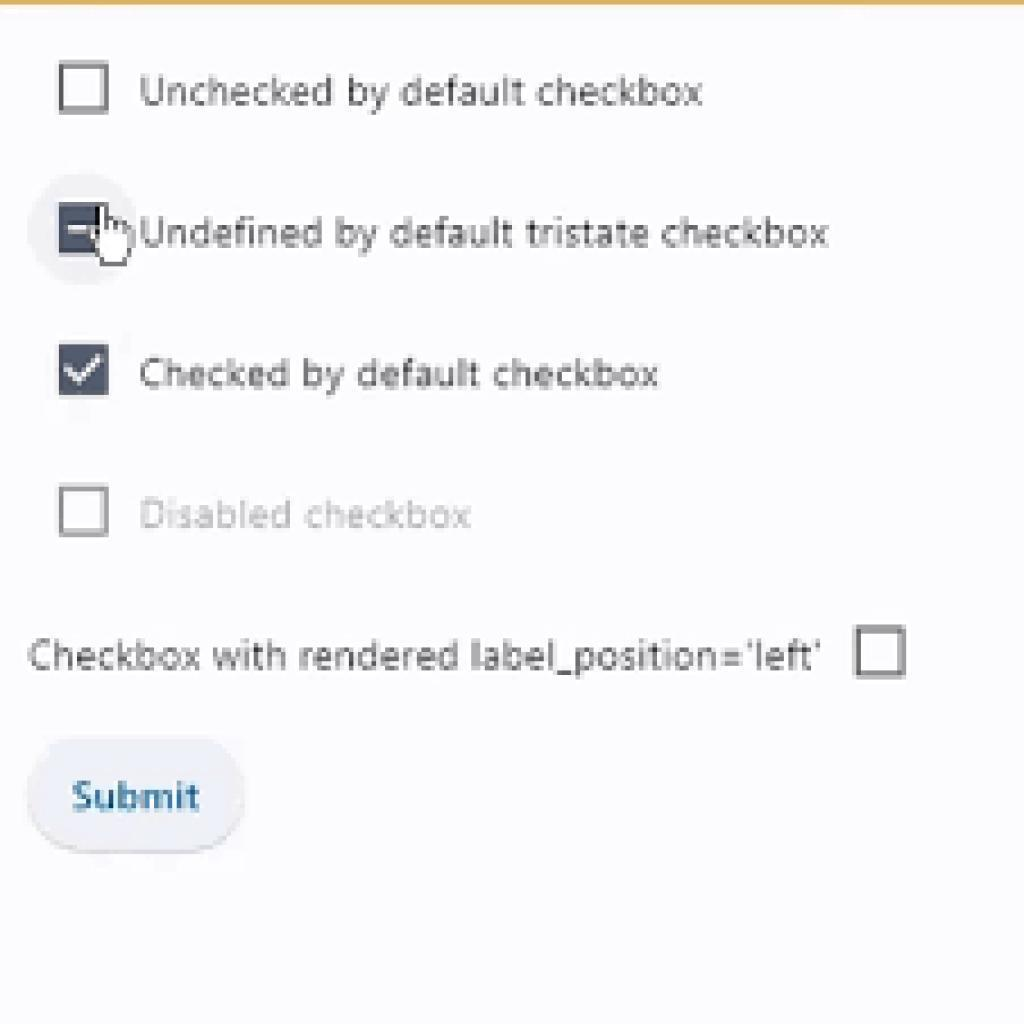button: (31, 731, 247, 856)
checkbox: (851, 622, 910, 682), (55, 481, 111, 542), (55, 340, 113, 398), (57, 60, 111, 116)
